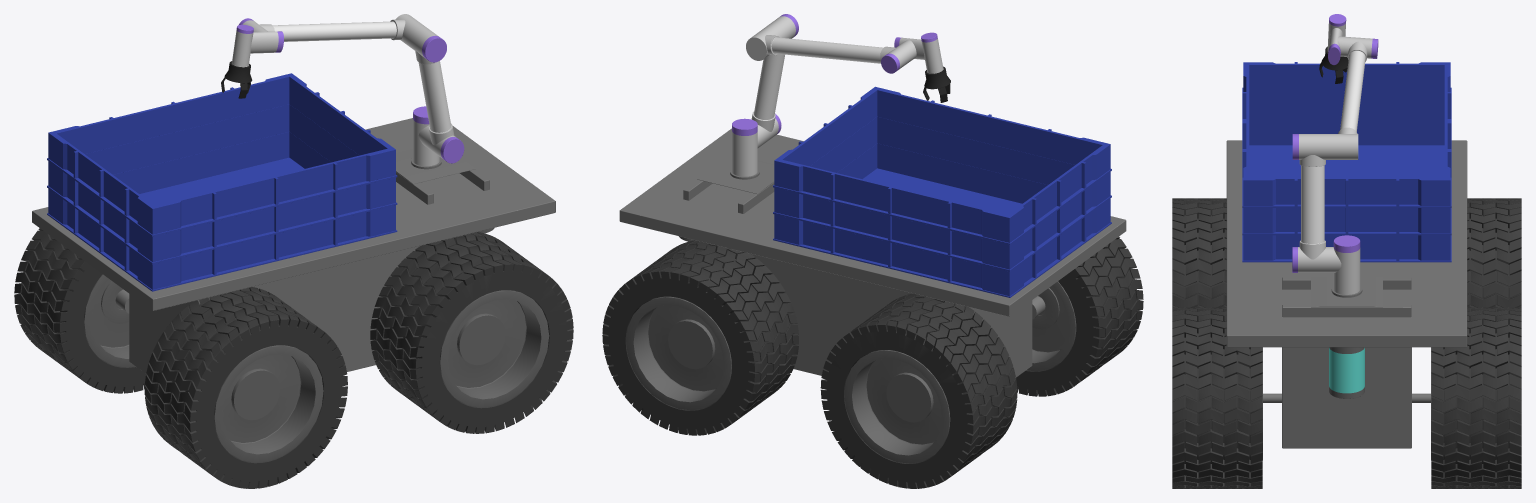
Rendered from robot_agent.fbx.
The picture shows the model from 3 angles, left to right: view 1: azimuth 30°, elevation 25°; view 2: azimuth 150°, elevation 25°; view 3: azimuth 270°, elevation 25°; orthographic projection. The views are drawn at different scales.
Parts seen in each view (by area): view 1: Cube.001, Cube.006, Cube, Cylinder.001, Cube.008, Cube.007; view 2: Cube.001, Cube.006, Cube, Cylinder.001, Cube.008, Cube.007; view 3: Cube.001, Cube.006, Cube, Cylinder.001, Cube.007, Cube.008, Cylinder.
Boxes of the visible parts, x1,y1,x2,y2 form: Cube.001: (14,228,573,488); Cube.006: (47,73,397,291); Cube: (32,118,555,374); Cylinder.001: (224,14,464,166); Cube.008: (396,149,475,184); Cube.007: (396,169,489,204); Cube.001: (602,237,1143,488); Cube.006: (773,86,1111,297); Cube: (619,128,1126,377); Cylinder.001: (732,14,950,176); Cube.008: (697,154,774,194); Cube.007: (683,179,774,213); Cube.001: (1172,198,1521,488); Cube.006: (1242,62,1451,262); Cube: (1226,140,1467,448); Cylinder.001: (1292,14,1378,294); Cube.007: (1282,277,1411,317); Cube.008: (1311,276,1382,307); Cylinder: (1329,347,1364,398).
Size of the model in its own units: 99.85 by 91.07 by 75.38.
